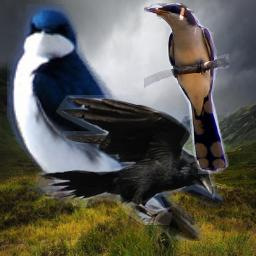Crow: (36, 95, 215, 225)
Cuckoo: (144, 3, 229, 174)
Swallow: (7, 4, 223, 241)
